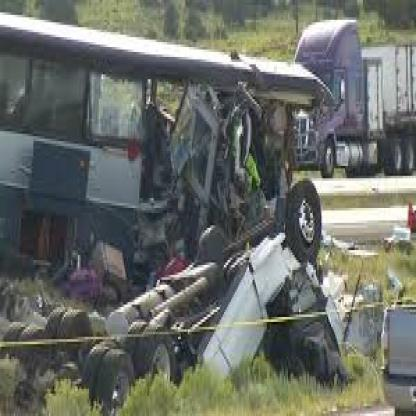accident: (10, 8, 354, 398)
